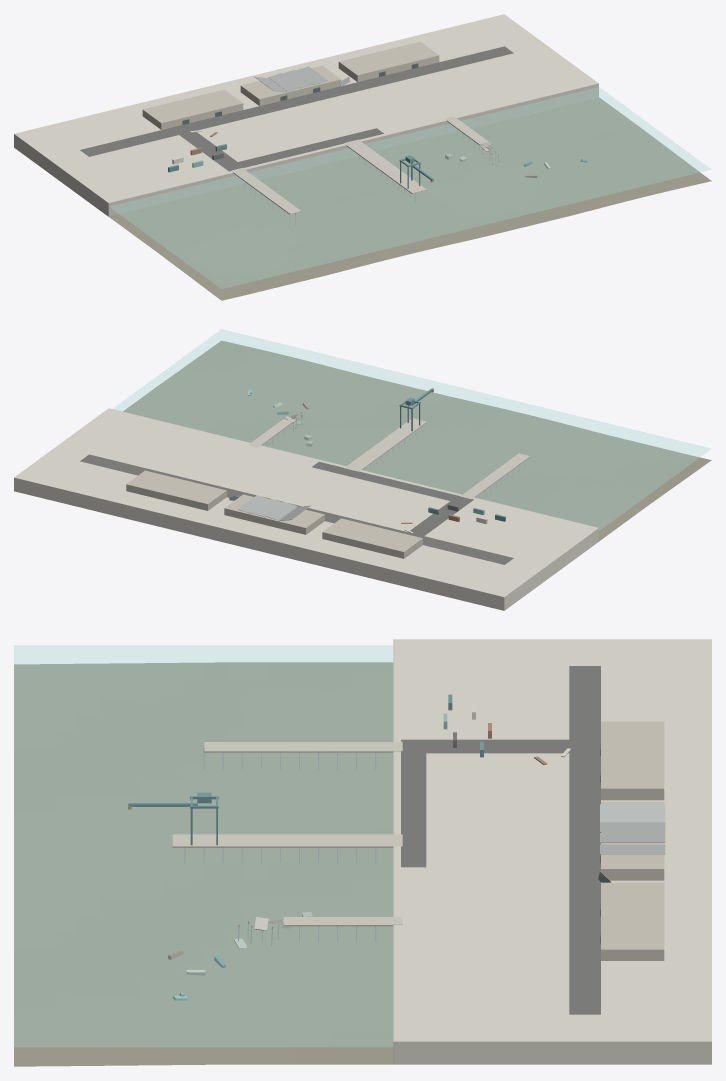
The model's file is port-world-low.glb.
The picture shows the model from 3 angles, top to bottom: view 1: azimuth 30°, elevation 25°; view 2: azimuth 150°, elevation 25°; view 3: azimuth 270°, elevation 25°; orthographic projection. The views are drawn at different scales.
Visible parts, largest first — view 1: port-world-low_root; view 2: port-world-low_root; view 3: port-world-low_root.
Boxes of the visible parts, <box> form: port-world-low_root: <box>14,14,711,300</box>; port-world-low_root: <box>14,329,711,610</box>; port-world-low_root: <box>14,639,711,1066</box>.
Bounding box in the file's own units: 600 × 49.5 × 440.
